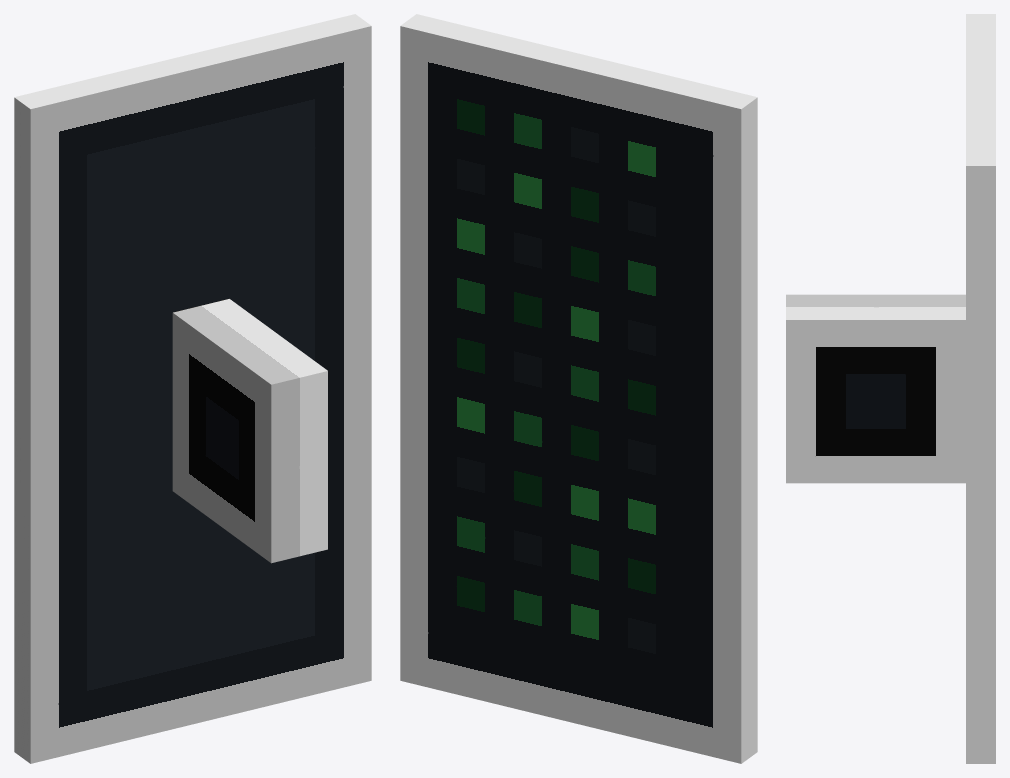
Rendered from git_shield.glb.
The picture shows the model from 3 angles, left to right: view 1: azimuth 30°, elevation 25°; view 2: azimuth 150°, elevation 25°; view 3: azimuth 270°, elevation 25°; orthographic projection. The views are drawn at different scales.
Visible parts, largest first — view 1: shield (×2); view 2: shield; view 3: shield (×2).
Boxes of the visible parts, x1=… form: shield (×2): x1=14, y1=14, x2=371, y2=763; shield: x1=400, y1=14, x2=757, y2=763; shield (×2): x1=786, y1=14, x2=995, y2=763.
Size of the model in its own units: 0.75 by 1.38 by 0.4375.
1 material, 1 textured.
